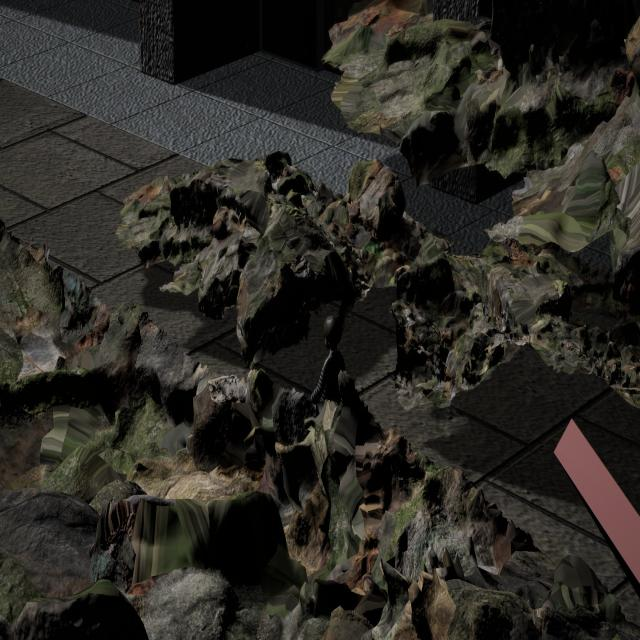Human: (297, 276, 353, 432)
